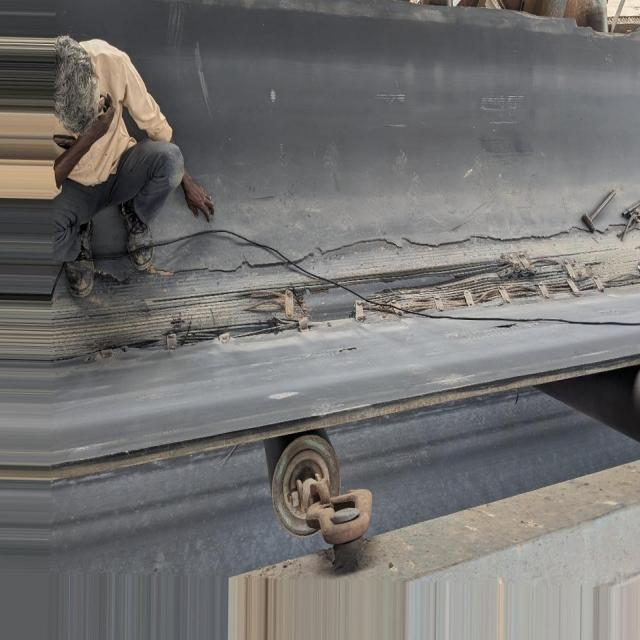Human: (50, 33, 216, 295)
Other Objects: (576, 180, 640, 243)
Roller: (264, 420, 342, 540), (535, 365, 640, 440)
Tear: (100, 230, 616, 352)
